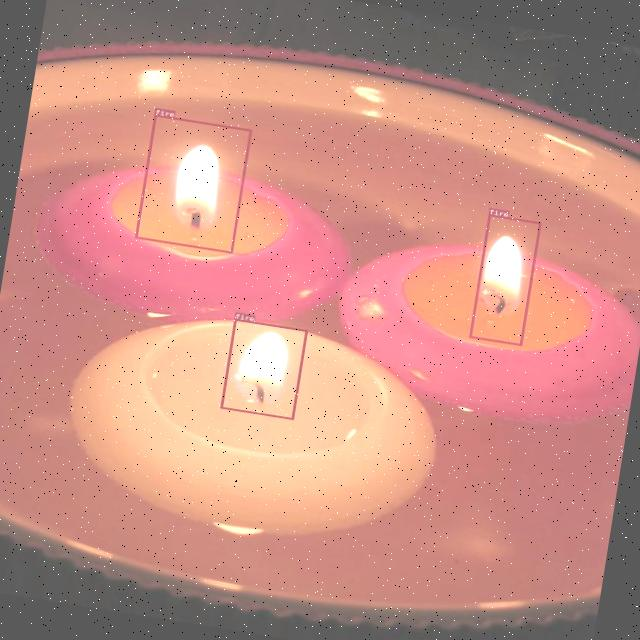fire: (134, 114, 252, 254), (468, 214, 542, 346), (220, 319, 307, 419)
